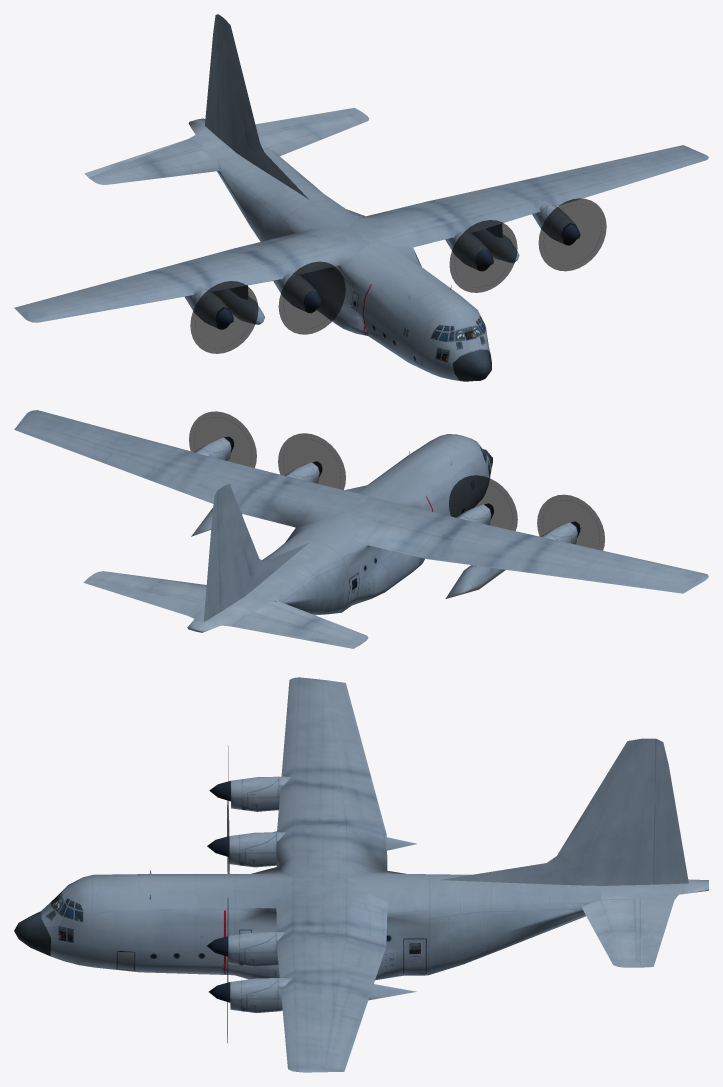
3 views of the same model, one above another, from view 1: azimuth 30°, elevation 25°; view 2: azimuth 150°, elevation 25°; view 3: azimuth 270°, elevation 25° (orthographic). The views are drawn at different scales.
Parts seen in each view (by area): view 1: body, o2942_6, o2850_2, Cylinder.003, Cylinder.001, Cylinder, Cylinder.002; view 2: body, o2850_2, Cylinder.002, Cylinder, Cylinder.003, Cylinder.001, o2942_6; view 3: body, o2850_2, o2942_6.
Part boxes in pixels (box(x1,y1,x2,y2)): body: box(14, 14, 708, 381); o2942_6: box(185, 201, 580, 329); o2850_2: box(14, 145, 691, 311); Cylinder.003: box(190, 281, 258, 353); Cylinder.001: box(538, 198, 606, 271); Cylinder: box(449, 220, 517, 292); Cylinder.002: box(278, 261, 345, 334); body: box(15, 410, 708, 648); o2850_2: box(14, 421, 690, 593); Cylinder.002: box(449, 475, 517, 530); Cylinder: box(278, 433, 345, 489); Cylinder.003: box(537, 494, 604, 550); Cylinder.001: box(189, 411, 256, 467); o2942_6: box(194, 437, 580, 544); body: box(14, 677, 708, 1072); o2850_2: box(324, 680, 387, 1071); o2942_6: box(207, 776, 291, 1012).
Size of the model in its own units: 4003 by 1077 by 2979.
3 materials, 1 textured.
